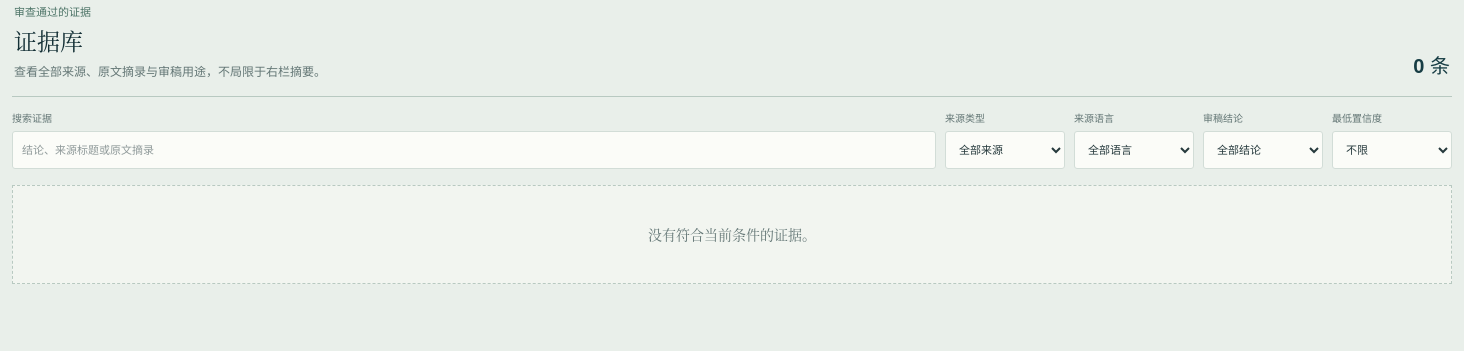
Test: evidence library › shows a guided empty state and can clear filters
Select "official" in the dropdown named "来源类型": (1005, 150) [945,131,1065,169]
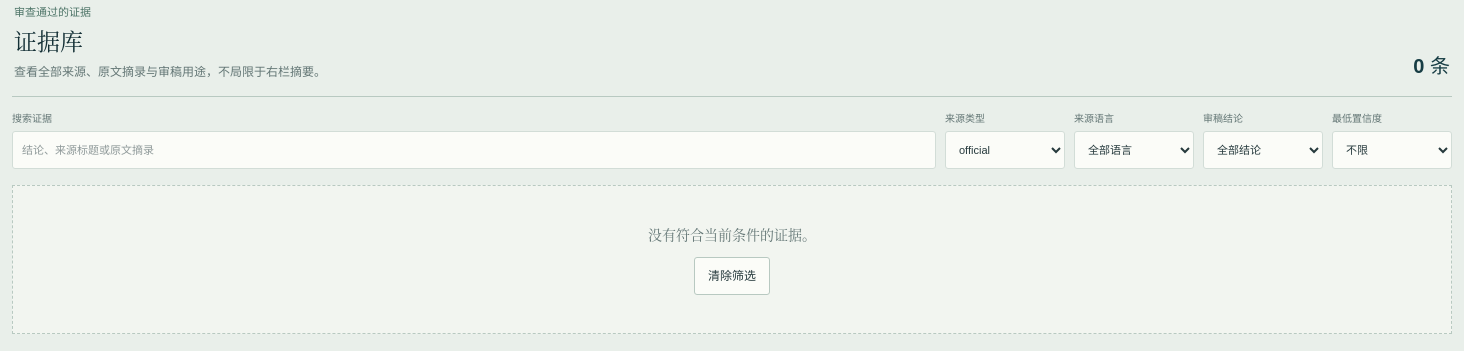
Expected: the text "没有符合当前条件的证据" is shown, [648,224,816,244]
Result: the button "清除筛选" is shown at [694,257,770,295]
